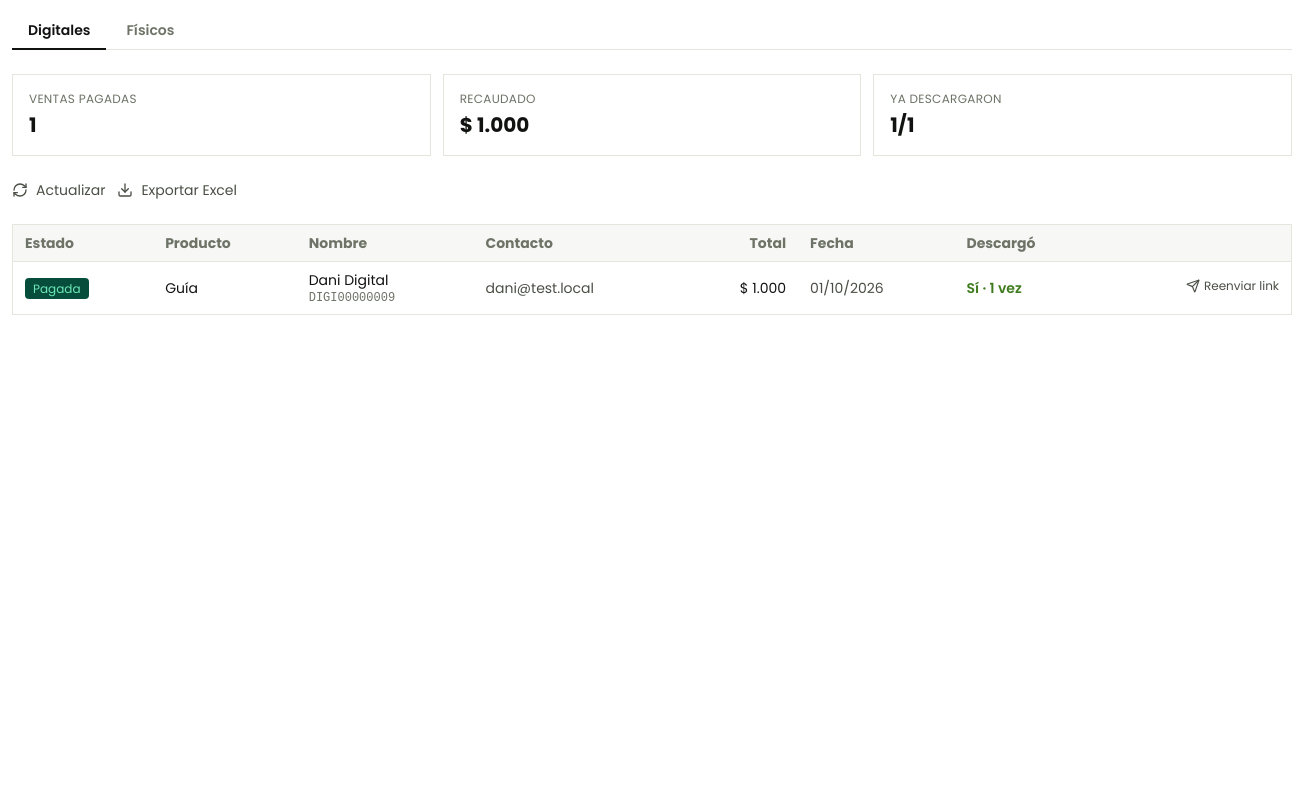
Scenario: Ventas de productos físicos (#44) › pestañas › por página separa Digitales y Físicos
Expected: the text "Dani Digital" is shown, [309,270,388,290]
Expected: the text "Ana Compradora" is not shown
Click the tab "Físicos": (150,31) [110,12,190,50]
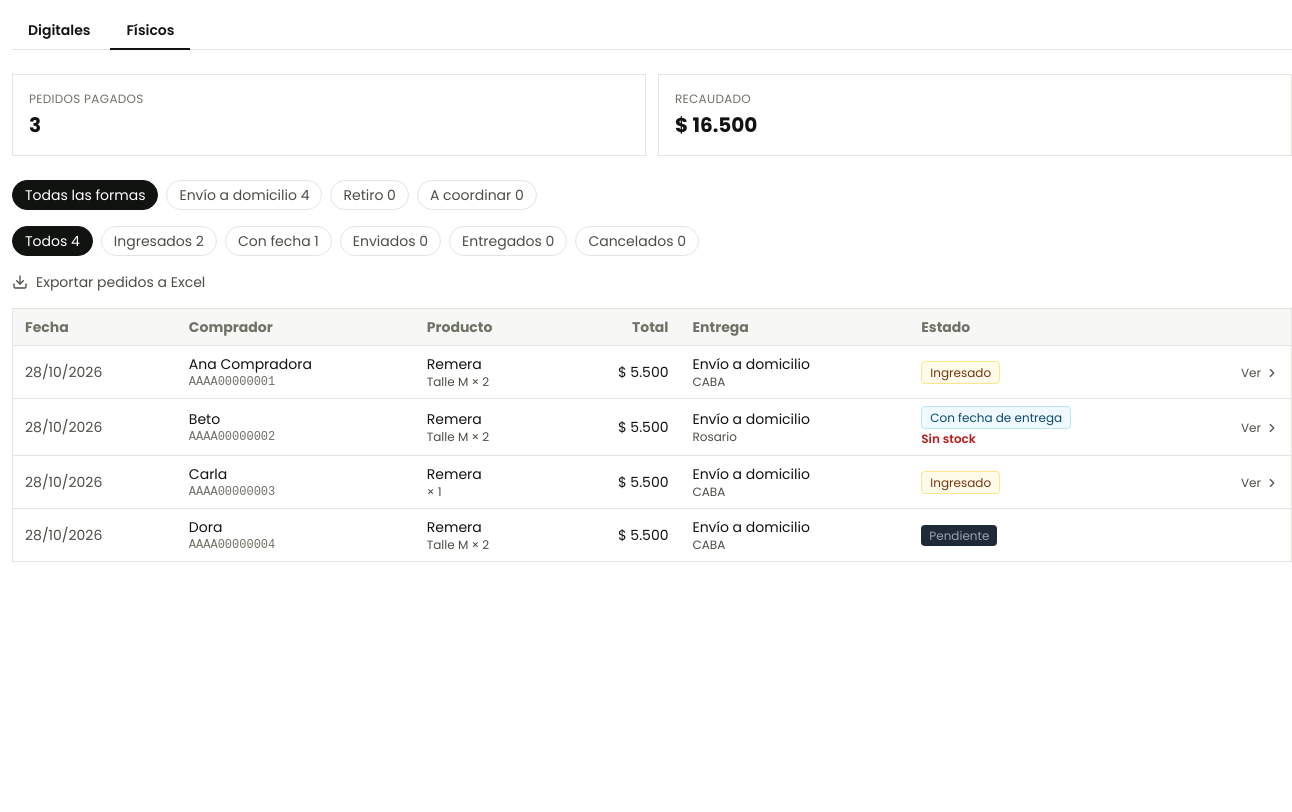
Result: the text "Ana Compradora" is shown at [189,354,312,374]
Result: the text "Dani Digital" is gone
Result: the text "3" is shown at [29,111,41,139]
